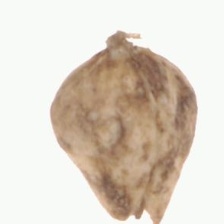L1: (90, 30, 150, 65), (106, 197, 165, 224)
L2: (49, 29, 199, 224)
